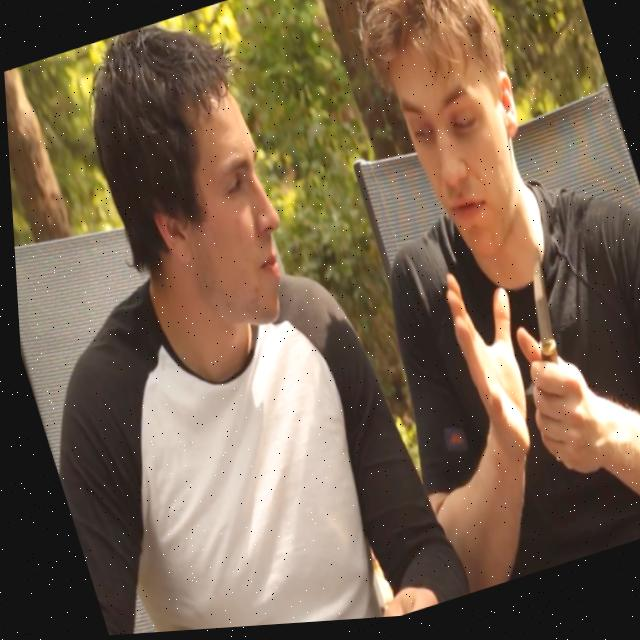knife: (499, 258, 567, 373)
